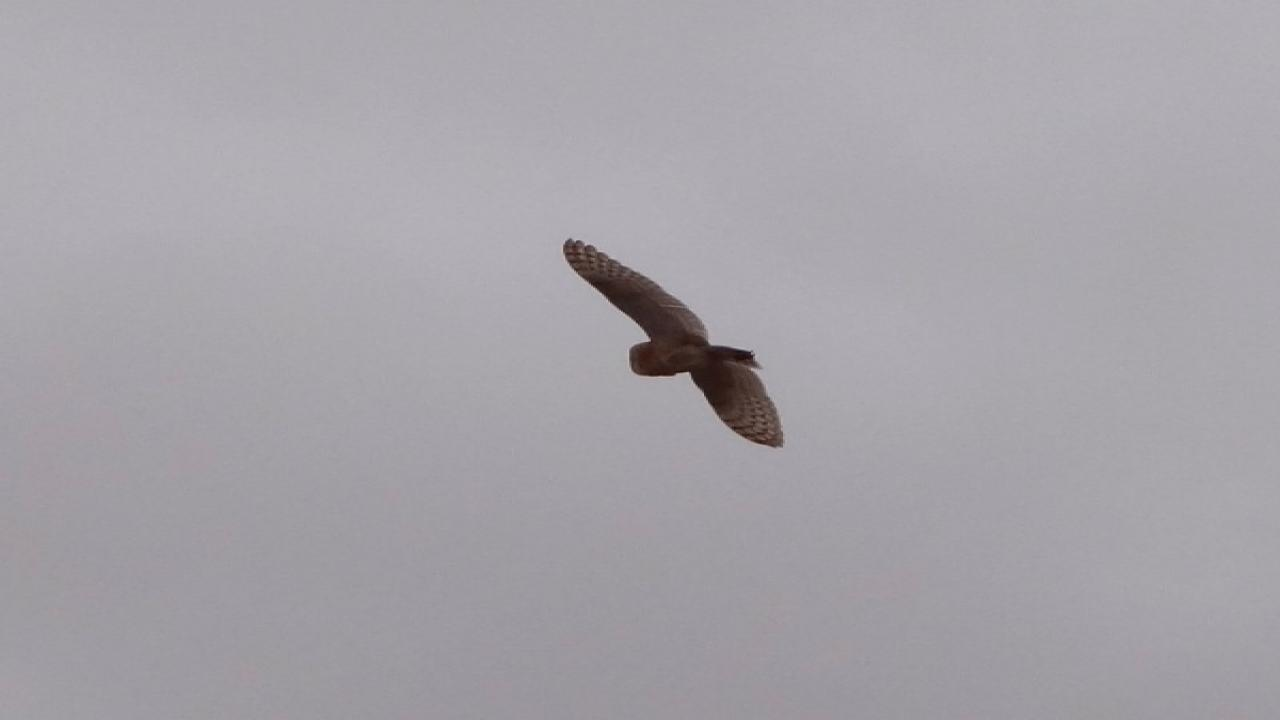Bird: (550, 229, 794, 453)
